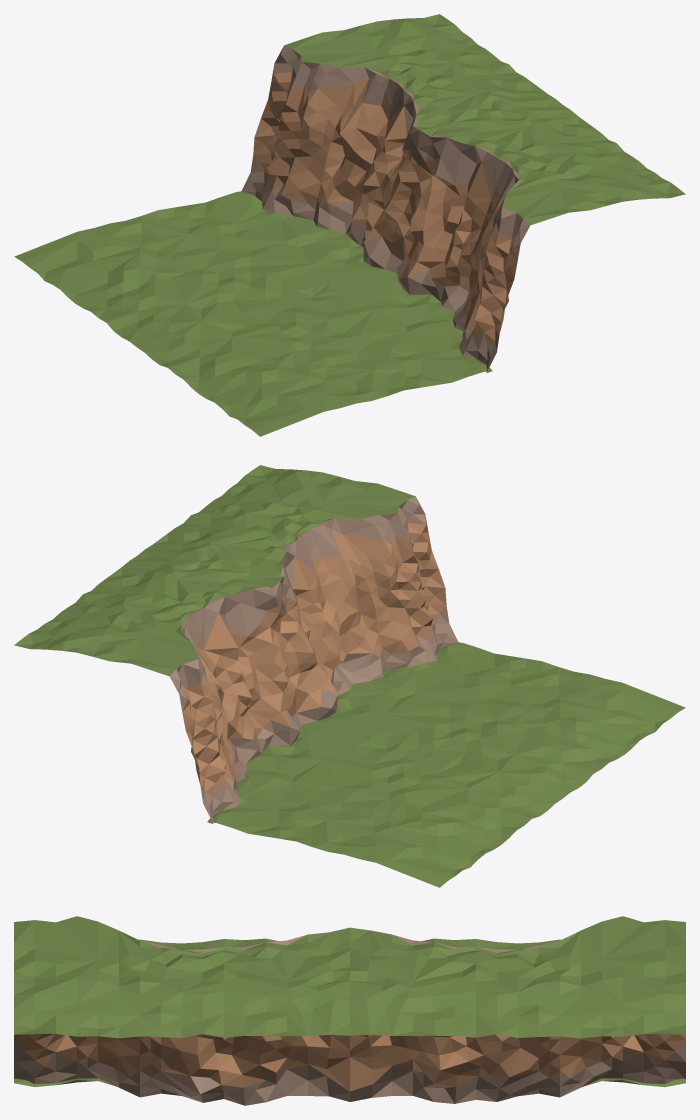
Rendered from rock.FBX.
3 renders of one model, top to bottom at view 1: azimuth 30°, elevation 25°; view 2: azimuth 150°, elevation 25°; view 3: azimuth 270°, elevation 25°, orthographic. The views are drawn at different scales.
Visible parts, largest first — view 1: rock; view 2: rock; view 3: rock.
Boxes of the visible parts, bbox=[...] form: rock: bbox=[14, 14, 685, 436]; rock: bbox=[14, 465, 685, 887]; rock: bbox=[14, 916, 685, 1105].
Size of the model in its own units: 393 by 134 by 394.
